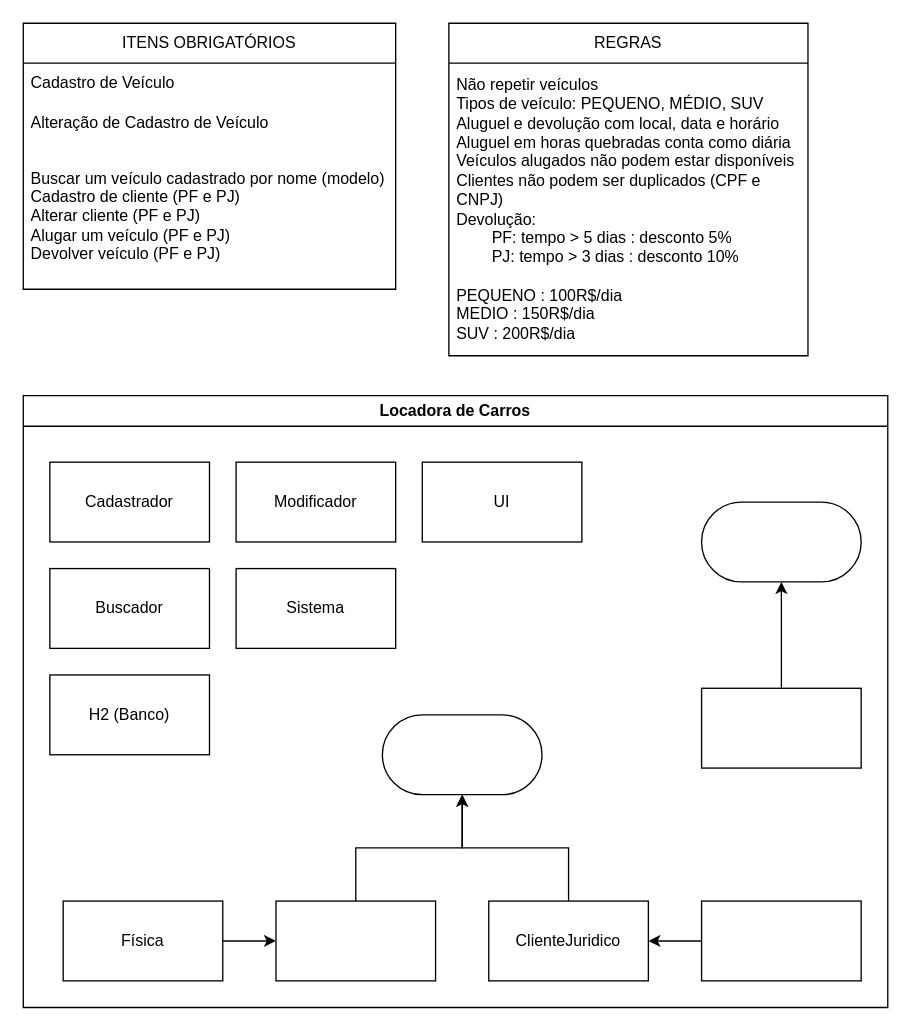
The diagram is 911 pixels wide and 1031 high, and some of its shapes have lost their labels. Each missing label, with the centre of its shape:
"Carro" goes at [780,727].
"Cliente" goes at [461,754].
"ClienteFisico" goes at [355,940].
"Jurídica" goes at [780,940].
"Veículo" goes at [780,541].
